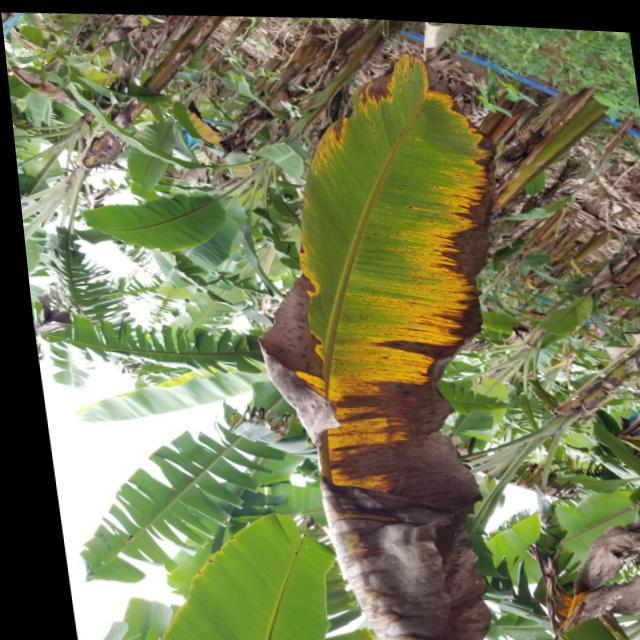Early_rust: (255, 47, 535, 640), (510, 540, 624, 640), (165, 88, 228, 154)
